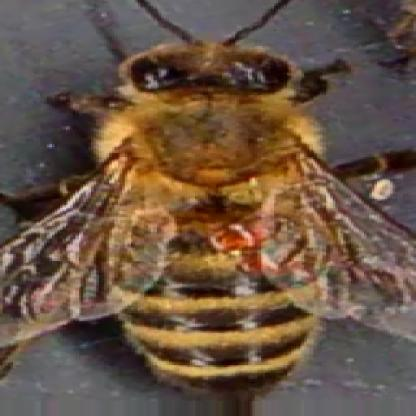bee: (97, 43, 336, 399)
vaoora: (215, 227, 264, 250)
